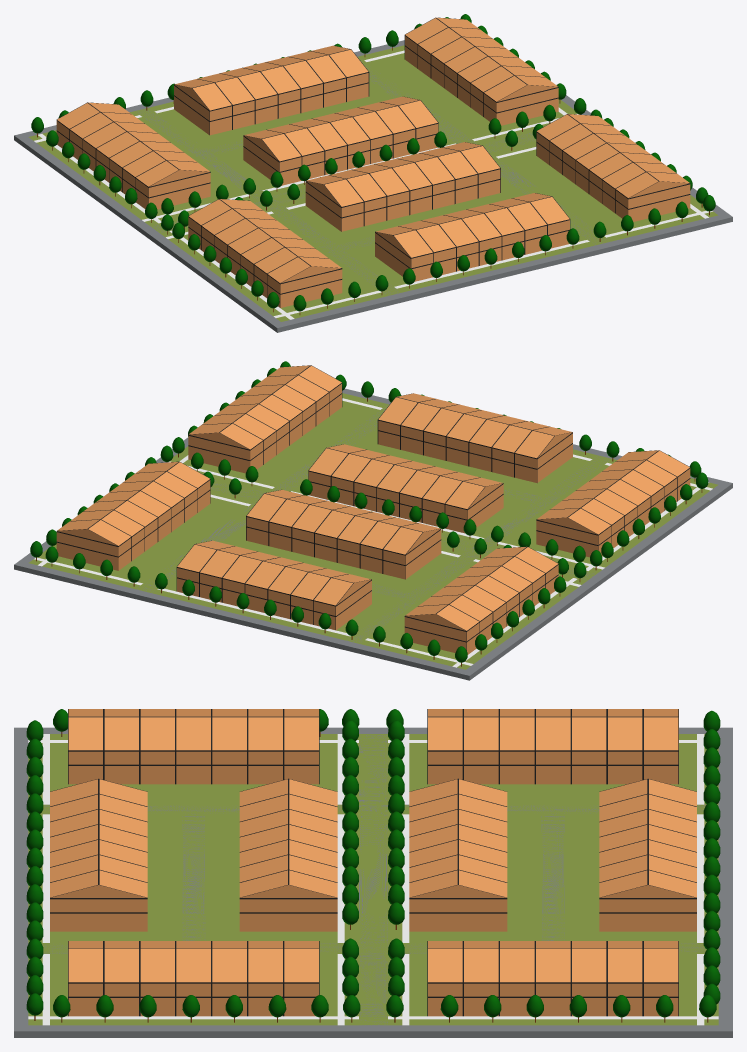
The model's file is townhomes_A.dae.
3 views of the same model, one above another, from view 1: azimuth 30°, elevation 25°; view 2: azimuth 150°, elevation 25°; view 3: azimuth 270°, elevation 25° (orthographic). The views are drawn at different scales.
Parts seen in each view (by area): view 1: group_9 (×18), Component_8 (×64); view 2: group_9 (×18), Component_8 (×64); view 3: Component_8 (×117), group_9 (×20).
Part boxes in pixels (<box>): group_9 (×18): <box>14,40,732,332</box>; Component_8 (×64): <box>57,18,690,307</box>; group_9 (×18): <box>14,388,732,680</box>; Component_8 (×64): <box>56,366,689,652</box>; Component_8 (×117): <box>50,717,696,1016</box>; group_9 (×20): <box>14,727,732,1037</box>.
Bounding box in the file's own units: 102 × 102 × 8.36.
